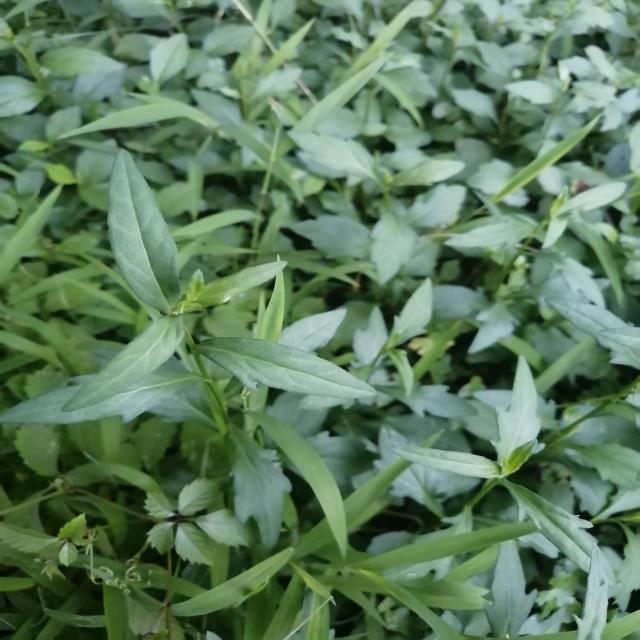Indian aster: (36, 147, 387, 459)
